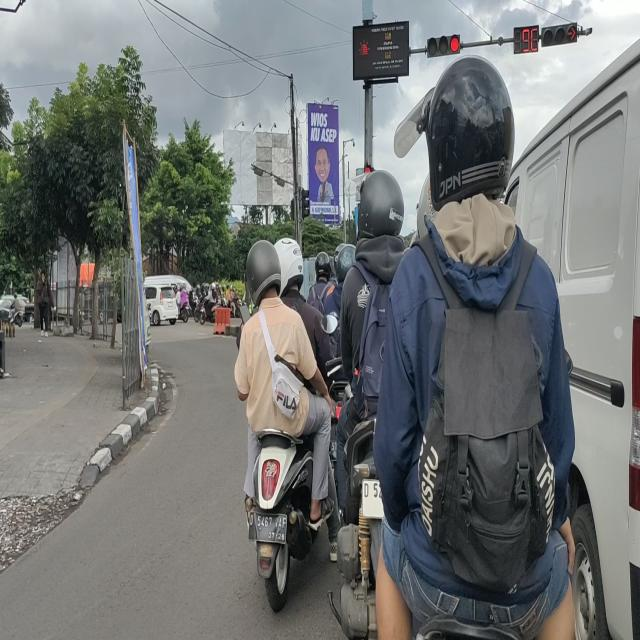helmet: (429, 57, 514, 196), (360, 169, 404, 245), (245, 235, 282, 310), (277, 237, 304, 295), (316, 249, 335, 281)
